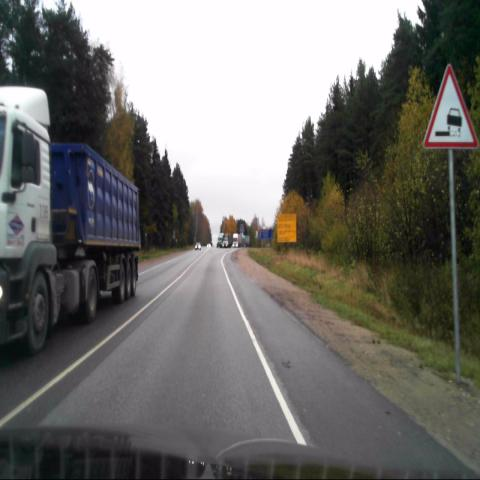1_19: (424, 64, 478, 149)
